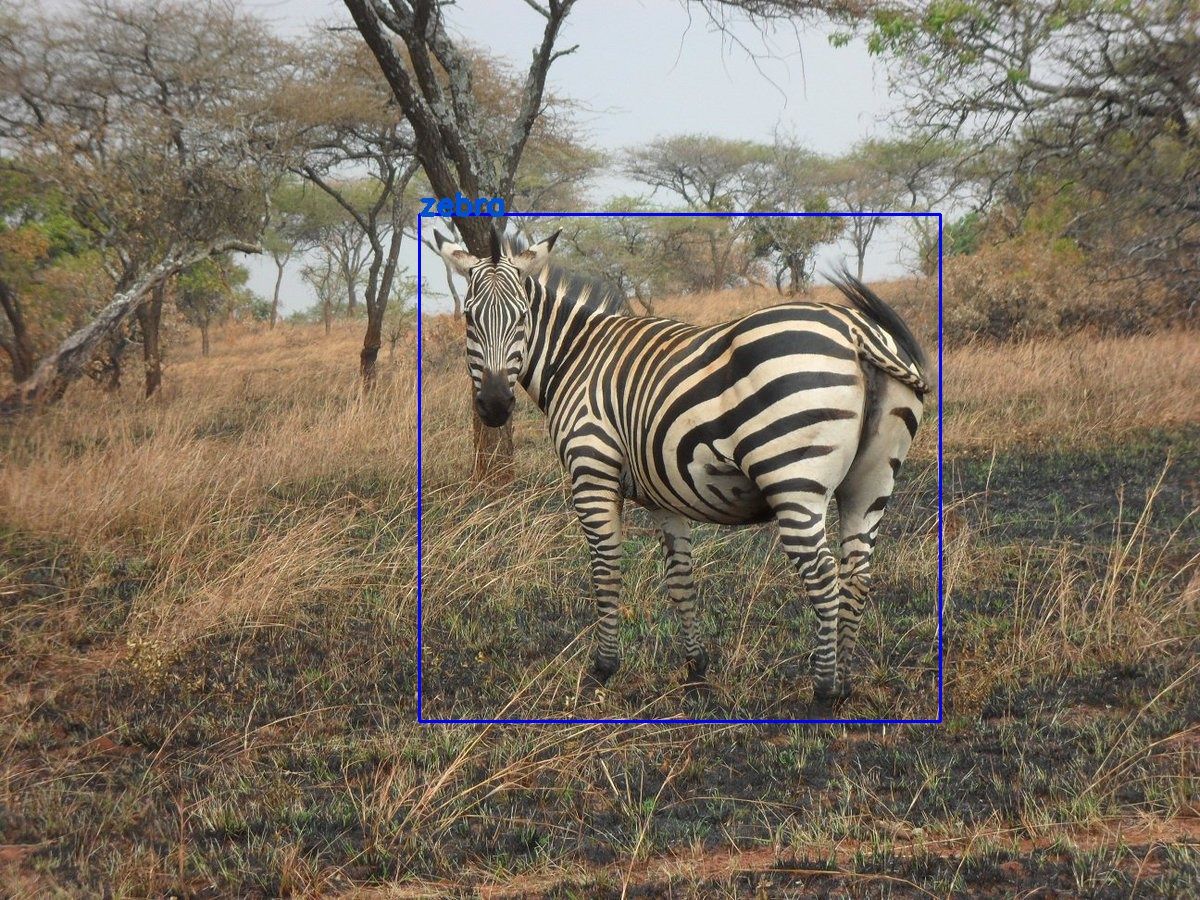zebra: (418, 213, 940, 720)
